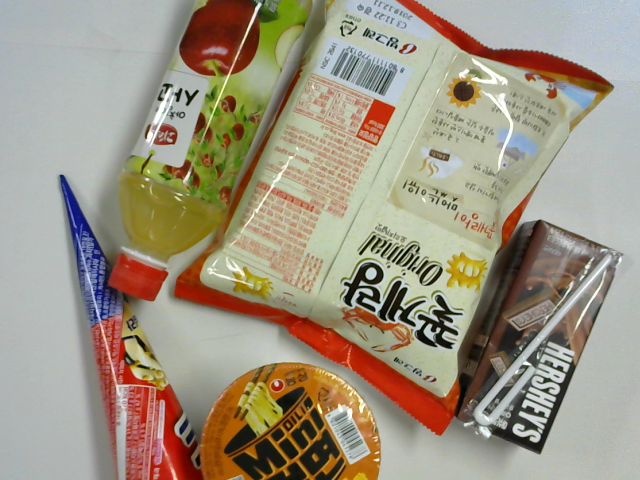Crabrang: (194, 1, 595, 423)
Hush_Choco_Drink: (456, 222, 624, 452)
Morning_Apple_500ml: (102, 1, 314, 310)
Udongmini: (196, 360, 389, 480)
World_Cone_Banila: (54, 167, 212, 480)
